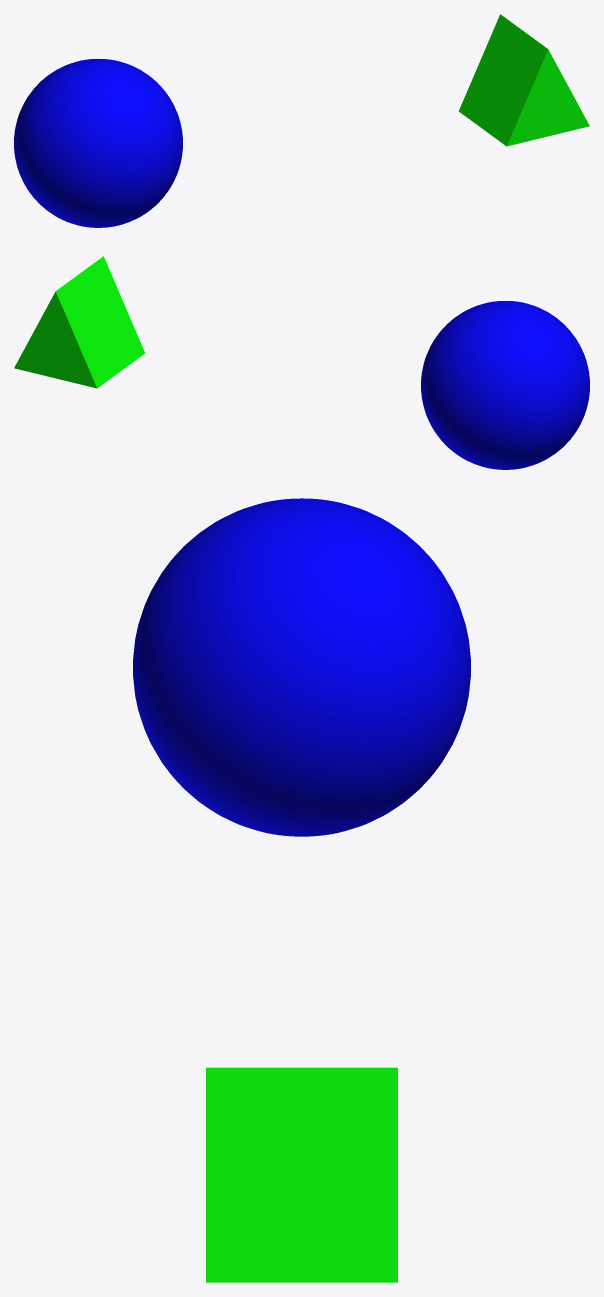
File: secondmodel.glb
3 views of the same model, one above another, from view 1: azimuth 30°, elevation 25°; view 2: azimuth 150°, elevation 25°; view 3: azimuth 270°, elevation 25° (orthographic). The views are drawn at different scales.
Parts seen in each view (by area): view 1: MeshInstance3D, MeshInstance3D2; view 2: MeshInstance3D, MeshInstance3D2; view 3: MeshInstance3D, MeshInstance3D2.
Part boxes in pixels (x1,y1,x2,y2): MeshInstance3D: (14, 58, 182, 227); MeshInstance3D2: (458, 14, 589, 146); MeshInstance3D: (421, 300, 589, 469); MeshInstance3D2: (14, 256, 145, 388); MeshInstance3D: (133, 498, 470, 836); MeshInstance3D2: (206, 1067, 397, 1282).
Bounding box in the file's own units: 6.49 × 1.79 × 1.76.
